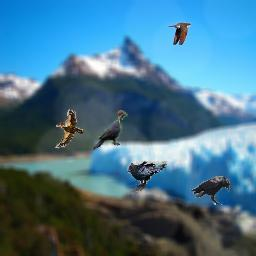Crow: (127, 161, 167, 193), (190, 176, 230, 205)
Cuckoo: (167, 22, 191, 45)
Woodpecker: (93, 110, 128, 150), (55, 109, 84, 149)
